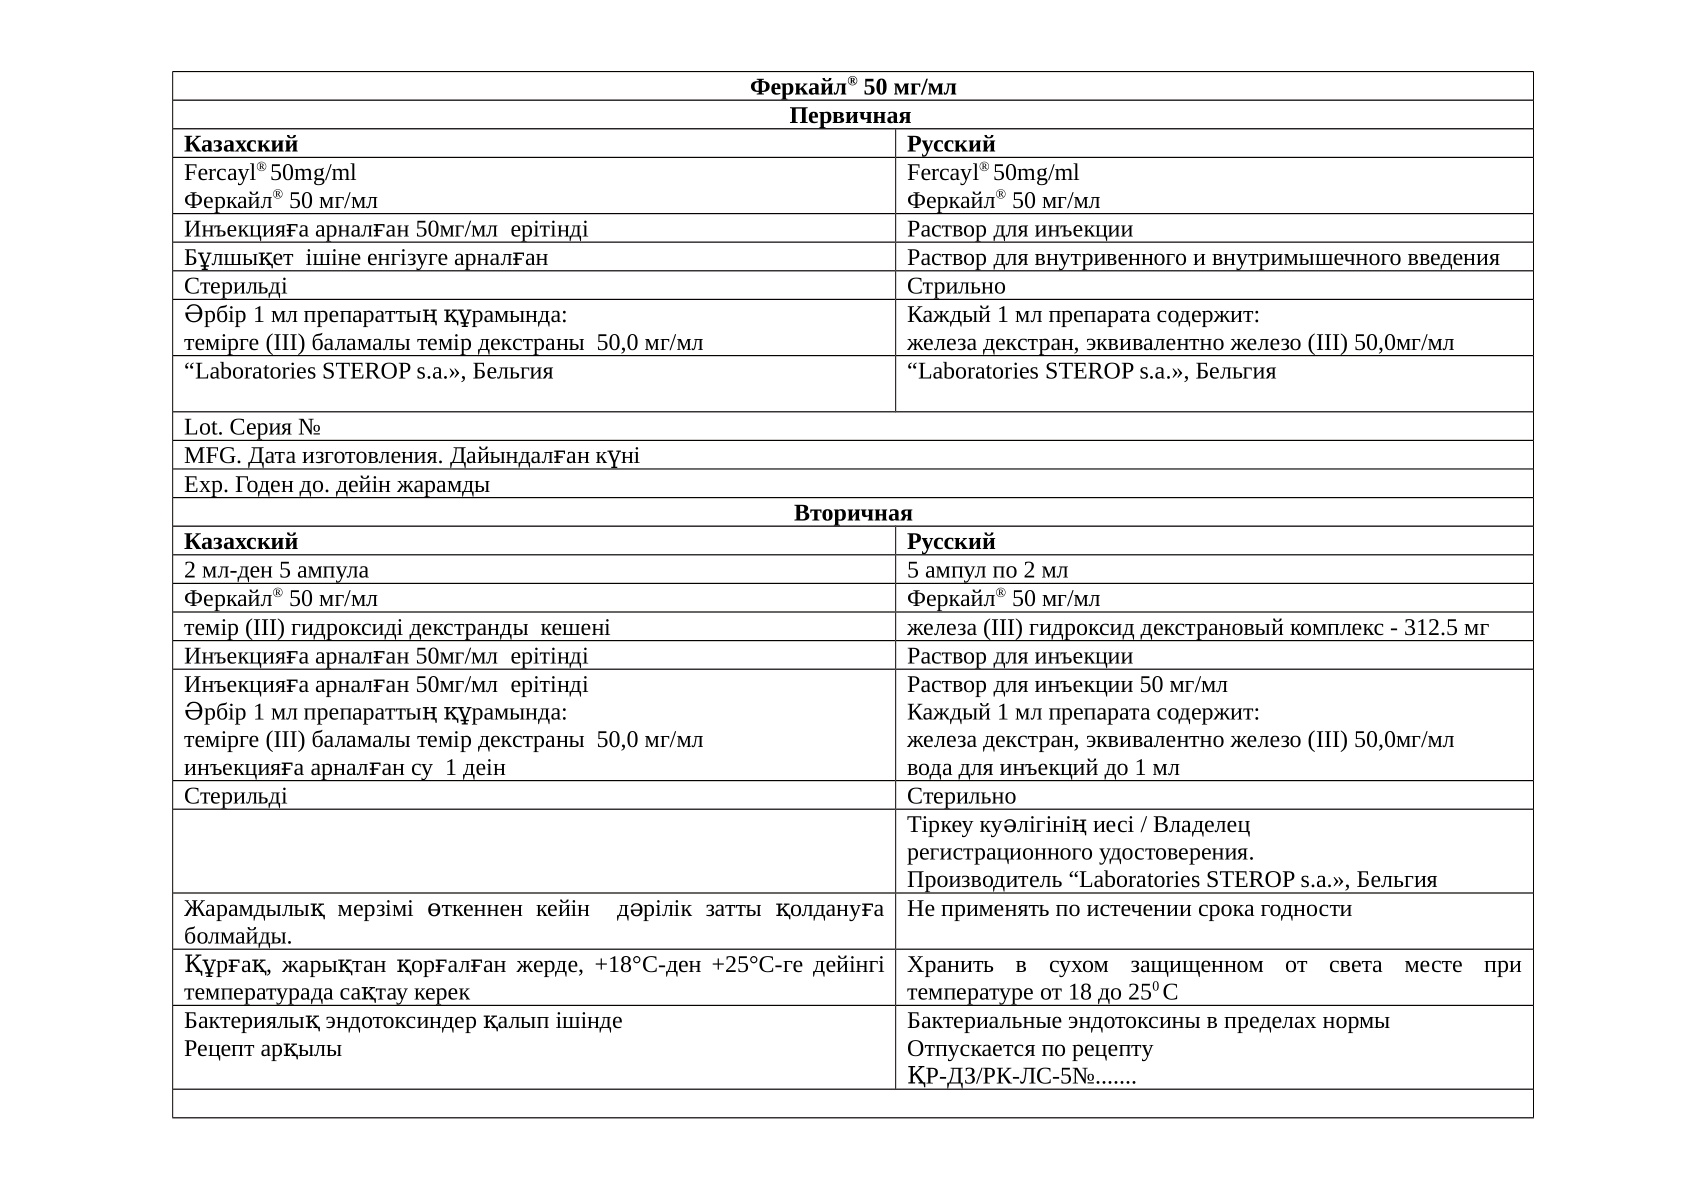merged_cells: (171, 70, 1535, 1119)
